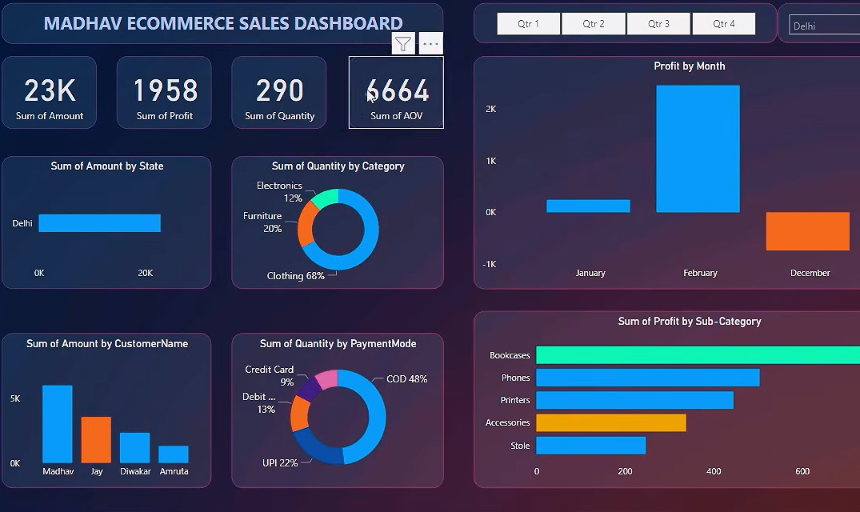

Layout of this report page (visuals, bound fields, positions):
{"tool":"powerbi","page":{"name":"Page 1","canvas":[1280,720],"ordinal":0},"visuals":[{"type":"textbox","box":[9.6,0,575,50.8],"z":0},{"type":"columnChart","title":"Profit by Month","fields":{"Y":["Sum(Details.Profit)"],"Category":["Orders.Order Date.Variation.Date Hierarchy.Month"]},"box":[778,15.1,485.5,286.1],"z":1000},{"type":"barChart","fields":{"Category":["Details.Sub-Category"],"Y":["Sum(Details.Profit)"]},"box":[688.9,322.5,574.7,310.6],"z":2000},{"type":"donutChart","fields":{"Category":["Details.Category"],"Y":["Sum(Details.Quantity)"]},"box":[366.4,53.5,391.1,248.4],"z":3000},{"type":"donutChart","fields":{"Y":["Sum(Details.Quantity)"],"Category":["Details.PaymentMode"]},"box":[278.6,352.7,391.1,248.4],"z":4000},{"type":"barChart","fields":{"Y":["Sum(Details.Profit)"],"Category":["Orders.State"]},"box":[9.6,65.9,341.7,236],"z":5000},{"type":"columnChart","fields":{"Category":["Orders.CustomerName"],"Y":["Sum(Details.Amount)"]},"box":[9.6,332.1,255.2,248.4],"z":6000}]}

Visuals, with their boxes on the page's 1280x720 design canvas (x1, y1, x2, y2). These are canvas units, not pixel positions in the 860x512 screenshot, which may show the page scaled, cropped or inside an application window:
textbox: Rect(10, 0, 585, 51)
"Profit by Month" columnChart: Rect(778, 15, 1264, 301)
barChart - Details.Sub-Category x Sum(Details.Profit): Rect(689, 322, 1264, 633)
donutChart - Details.Category x Sum(Details.Quantity): Rect(366, 54, 758, 302)
donutChart - Sum(Details.Quantity) x Details.PaymentMode: Rect(279, 353, 670, 601)
barChart - Sum(Details.Profit) x Orders.State: Rect(10, 66, 351, 302)
columnChart - Orders.CustomerName x Sum(Details.Amount): Rect(10, 332, 265, 580)
